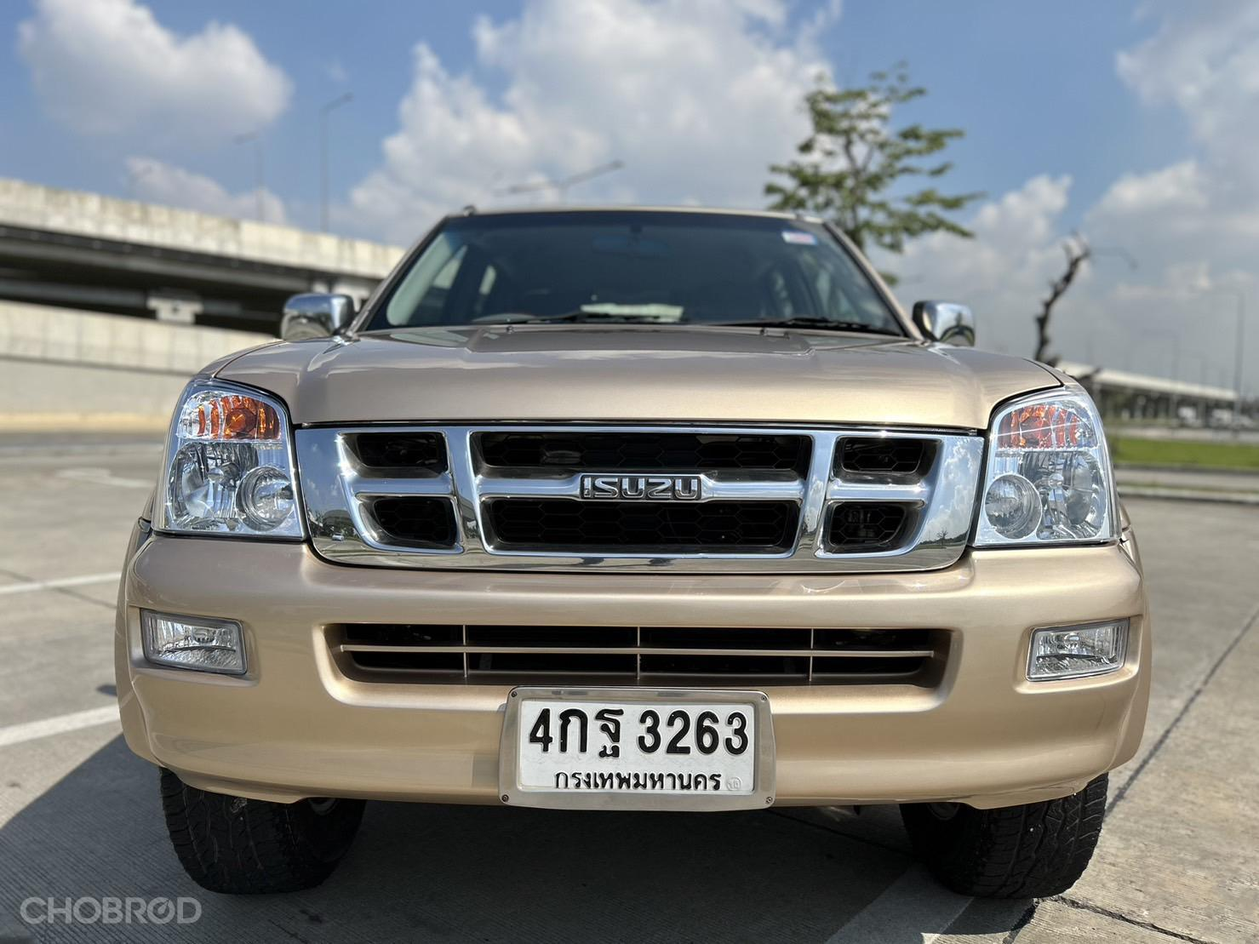license-plate: (480, 674, 790, 826)
